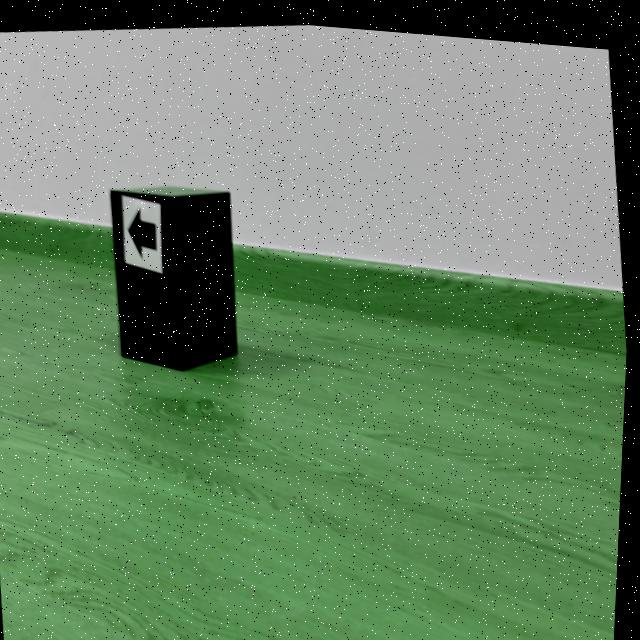LEFT: (129, 207, 158, 254)
